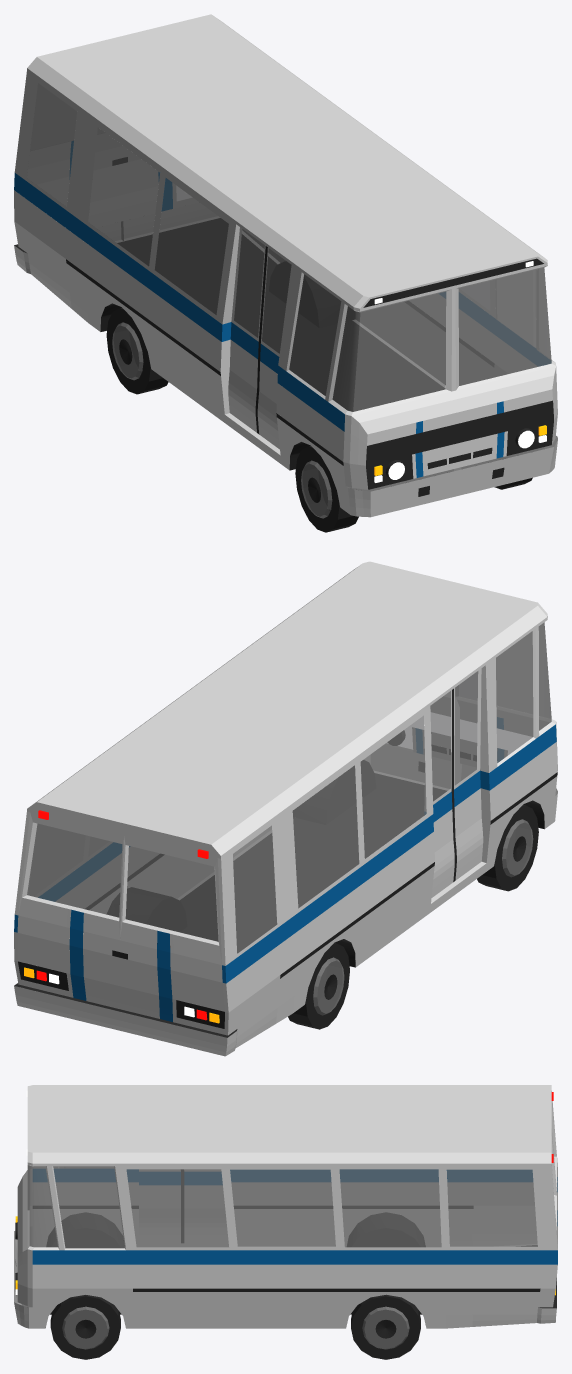
The model's file is npc_paz.glb.
3 views of the same model, one above another, from view 1: azimuth 30°, elevation 25°; view 2: azimuth 150°, elevation 25°; view 3: azimuth 270°, elevation 25° (orthographic). The views are drawn at different scales.
Visible parts, largest first — view 1: Cube, object 2, object 3; view 2: Cube, object 3, object 2; view 3: Cube, object 5, object 4.
Part boxes in pixels (x1,y1,x2,y2): Cube: [14, 14, 557, 517]; object 2: [295, 446, 358, 532]; object 3: [106, 308, 168, 394]; Cube: [14, 561, 557, 1056]; object 3: [288, 943, 349, 1029]; object 2: [477, 804, 538, 891]; Cube: [14, 1085, 557, 1328]; object 5: [50, 1295, 120, 1359]; object 4: [351, 1294, 420, 1359].
Bounding box in the file's own units: 2.53 × 2.88 × 7.
